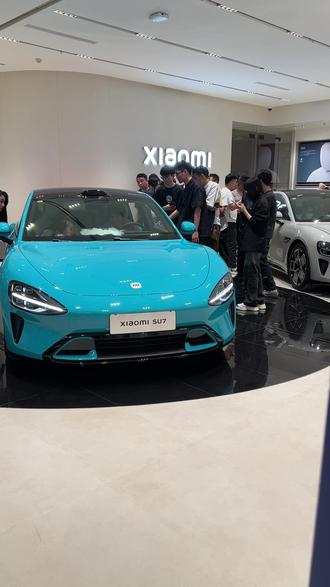su7: (0, 180, 243, 385), (264, 186, 330, 290)
